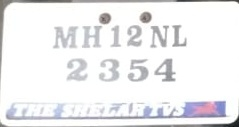character: (152, 57, 177, 83), (52, 25, 77, 48), (65, 57, 88, 81), (126, 58, 149, 81), (97, 58, 119, 82), (80, 25, 102, 48), (149, 24, 168, 48), (170, 23, 187, 47), (126, 24, 142, 47), (108, 23, 121, 47)
